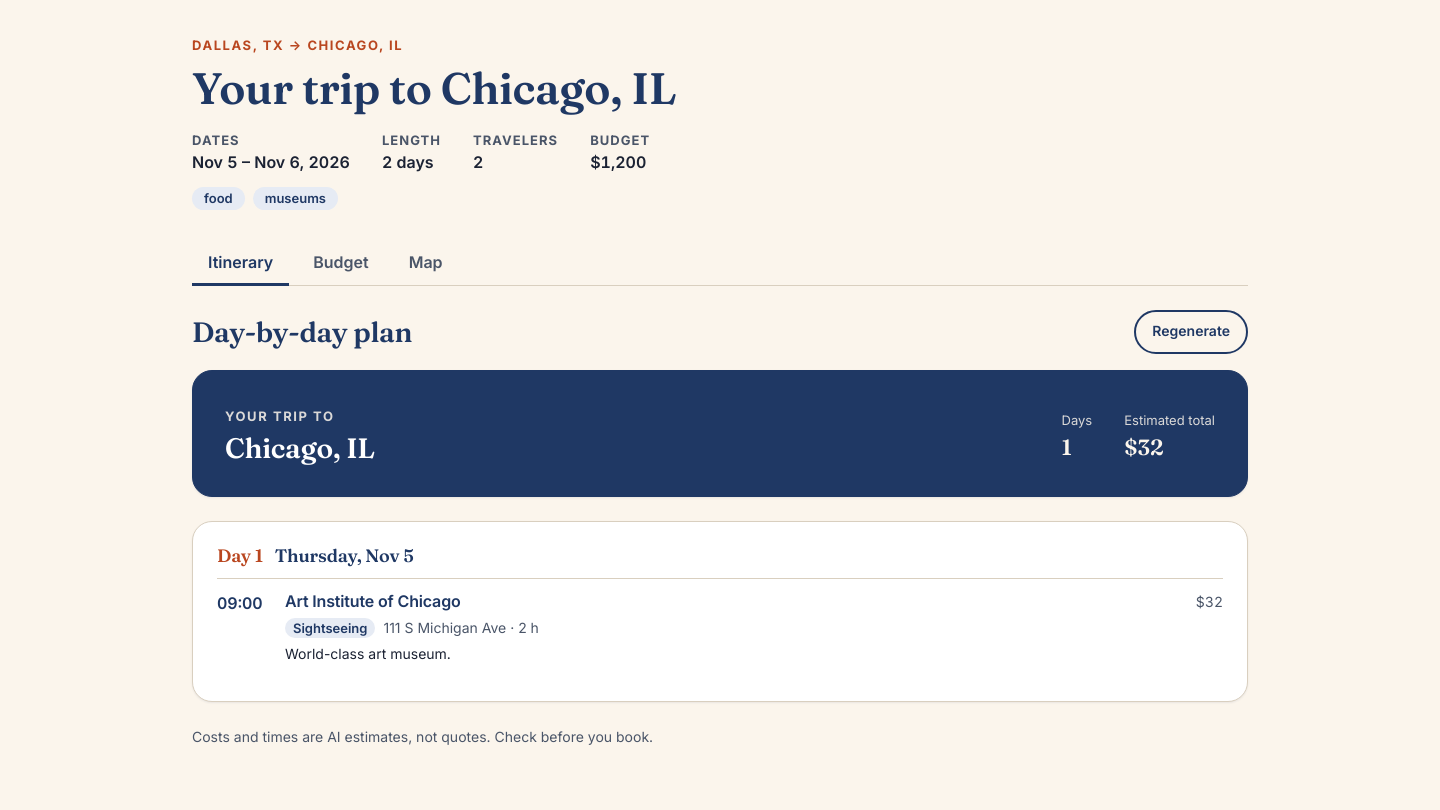
Test: Trip page plan › asks before regenerating and replaces the plan only when confirmed
Click the button "Regenerate": click(1191, 332) [1134,310,1248,354]
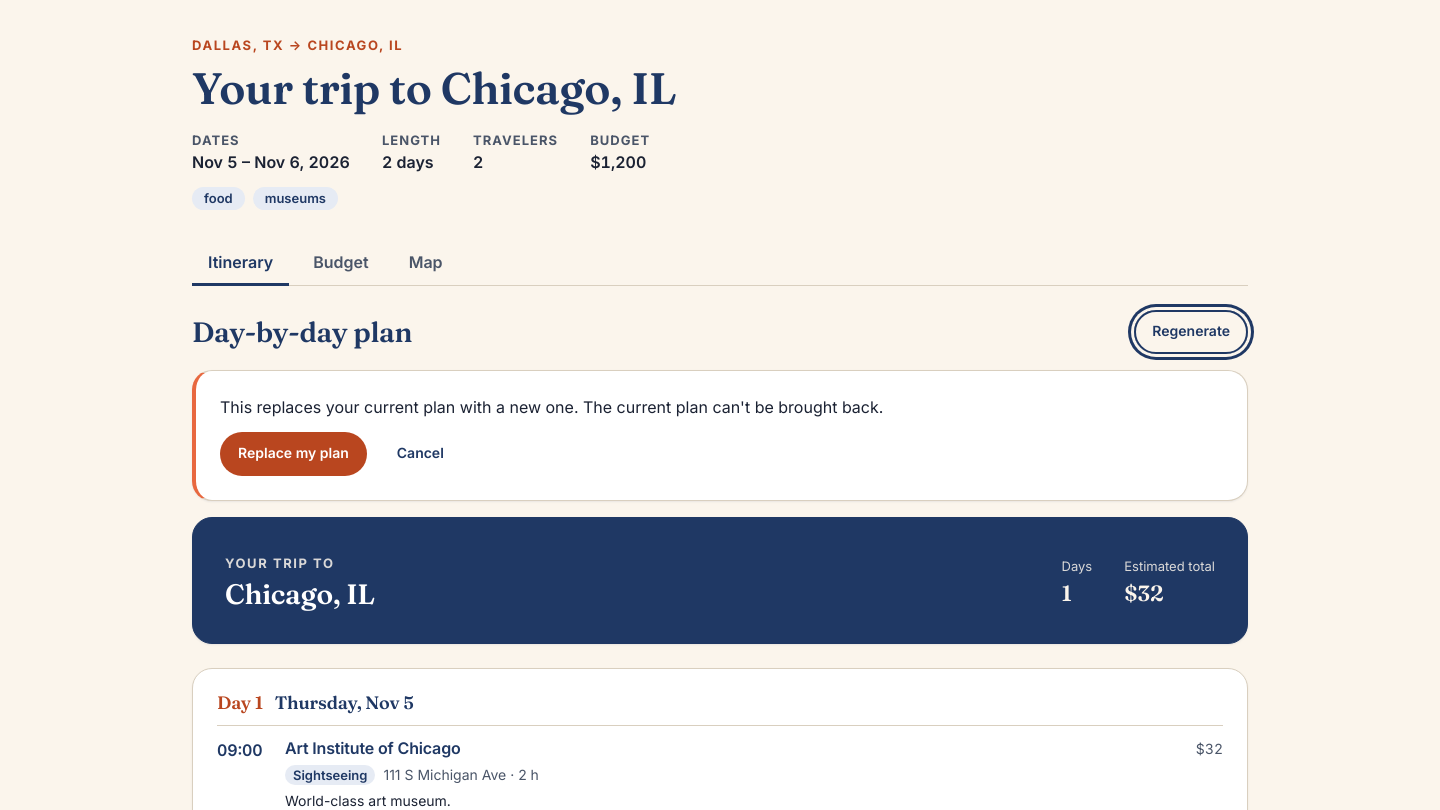
Result: the text "replaces your current plan" is shown at [220,397,883,417]
Click the button "Cancel": click(420, 454) [379,432,462,476]
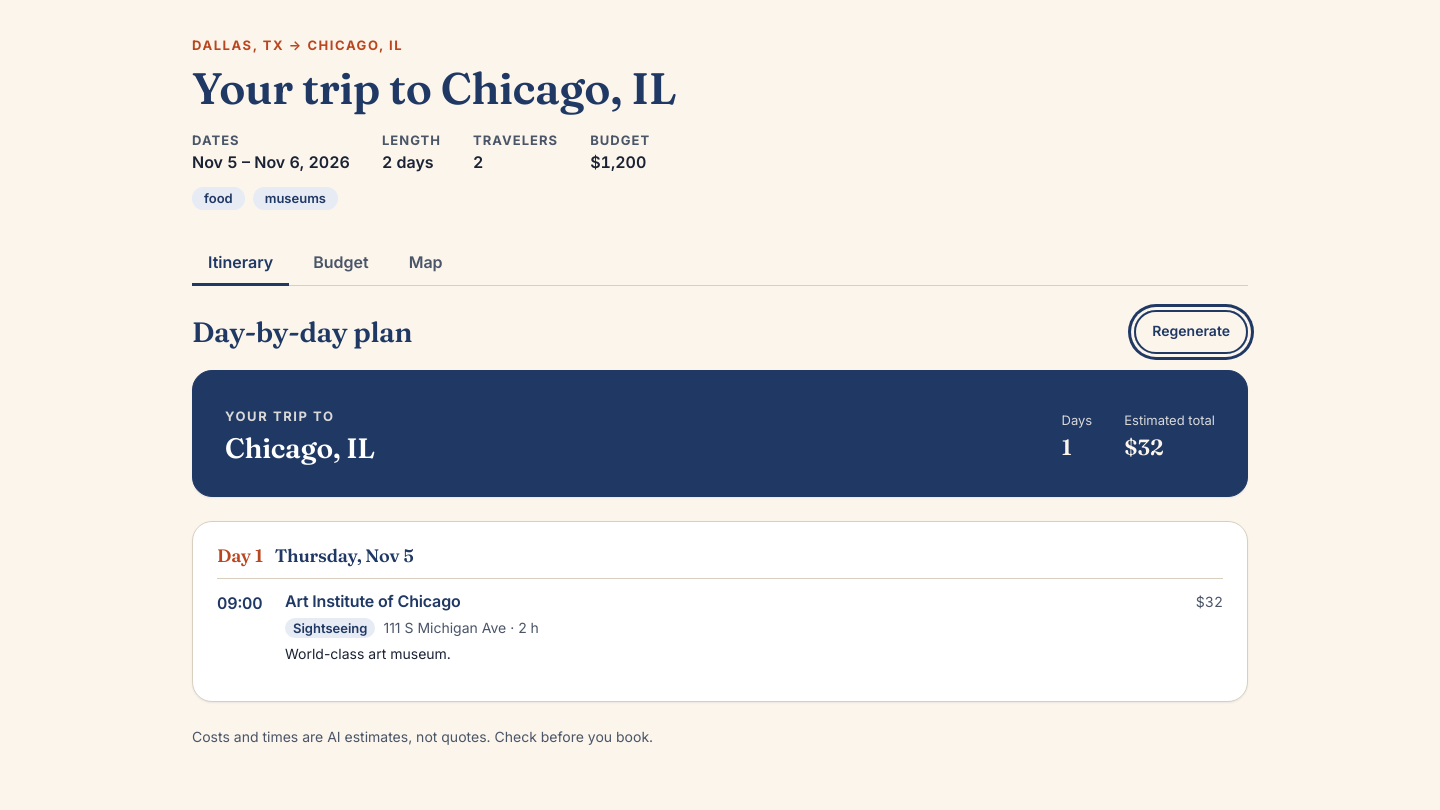
Result: the text "replaces your current plan" is gone
Click the button "Regenerate": click(1191, 332) [1134,310,1248,354]
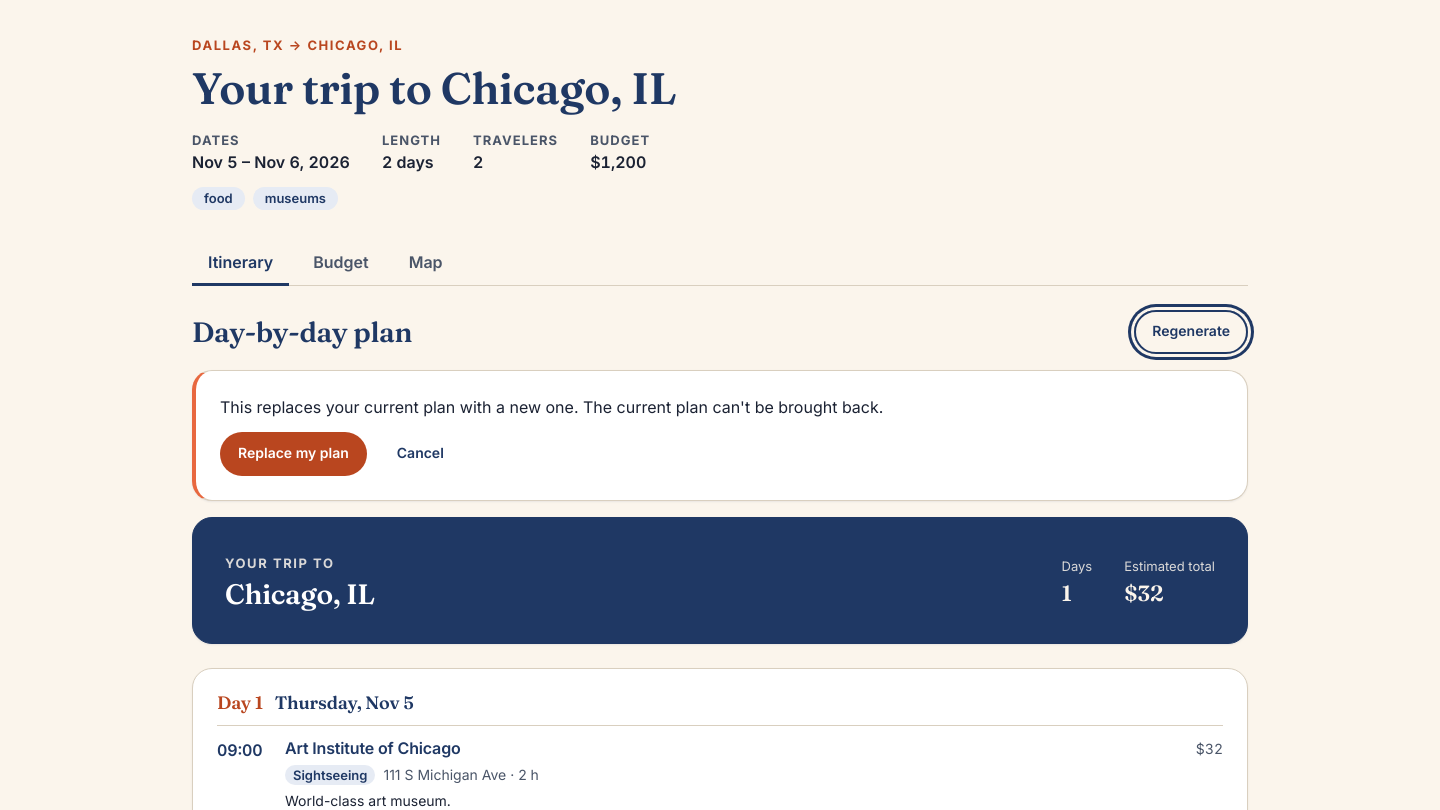
Click the button "Replace my plan": click(293, 454) [220,432,367,476]
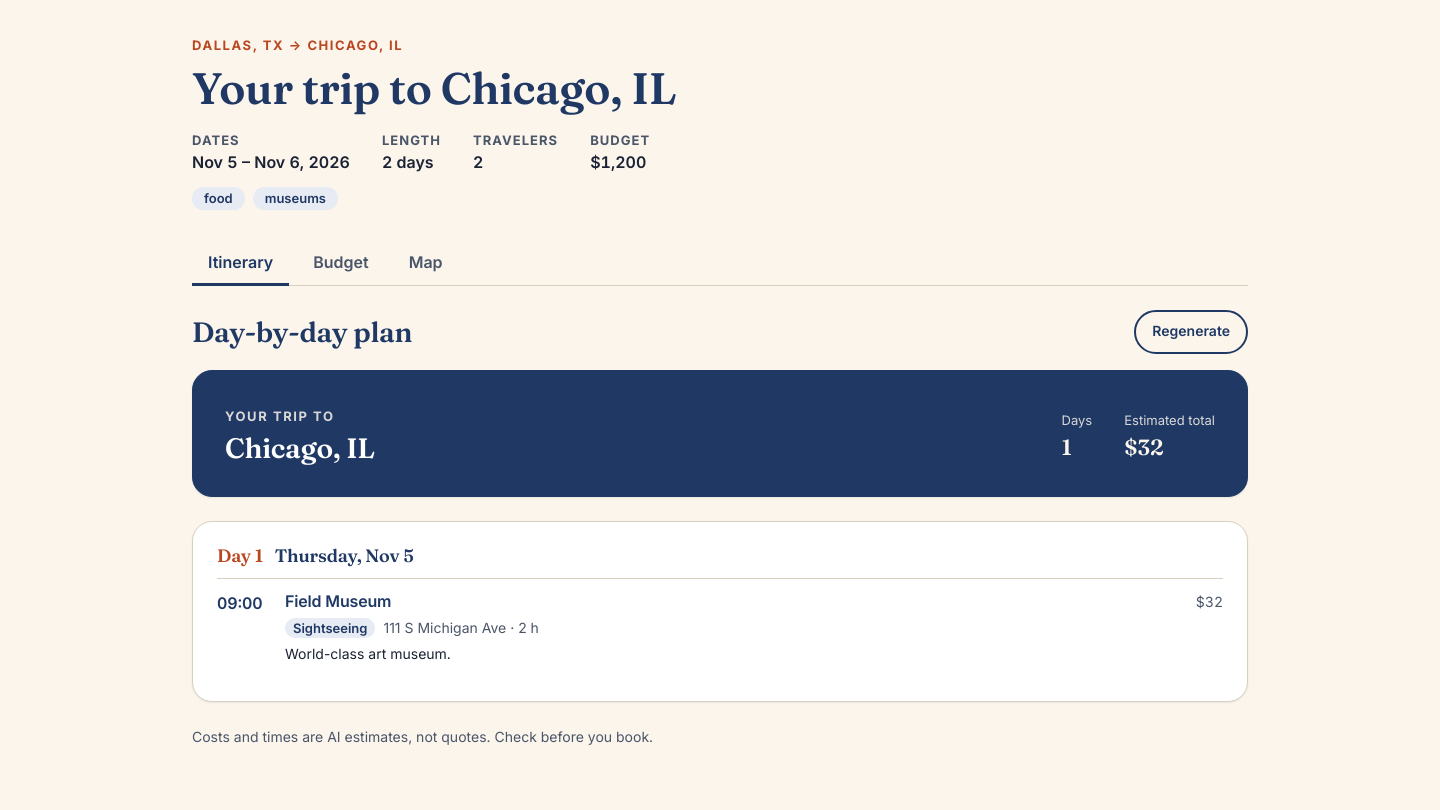
Result: the heading "Field Museum" is shown at [285,592,391,611]
Result: the heading "Art Institute of Chicago" is gone
